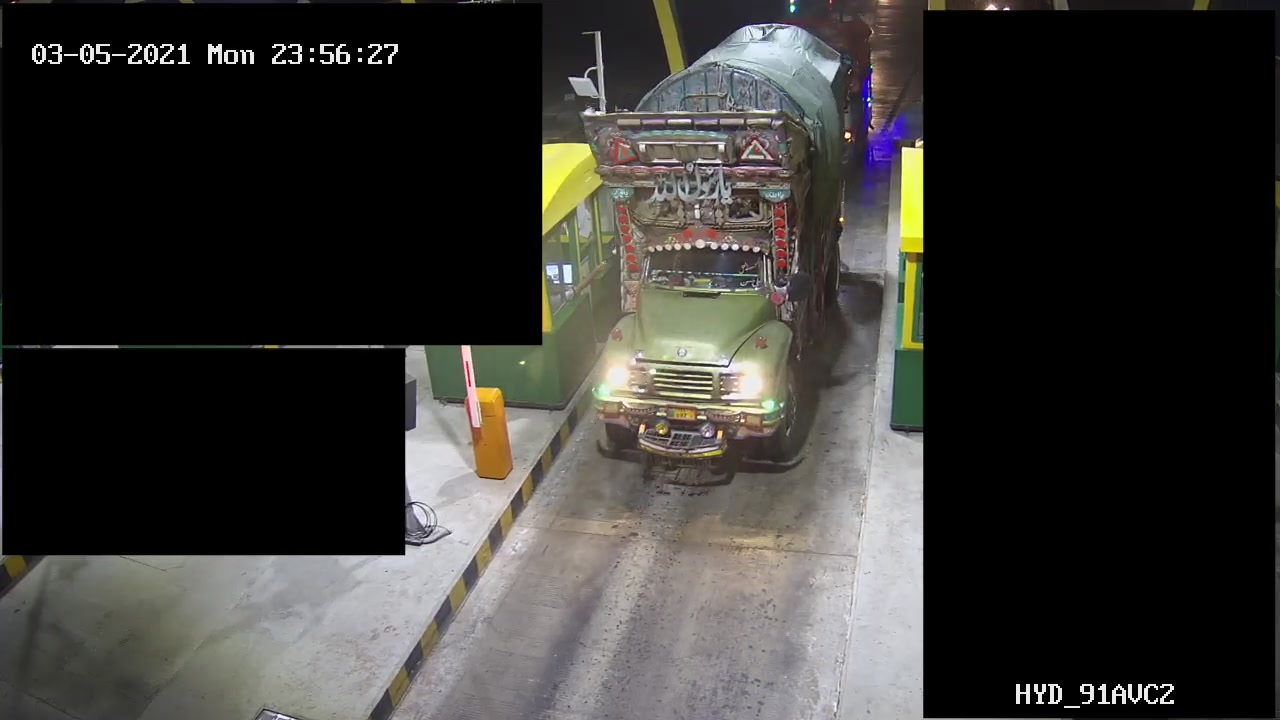F5: (593, 25, 850, 474)
